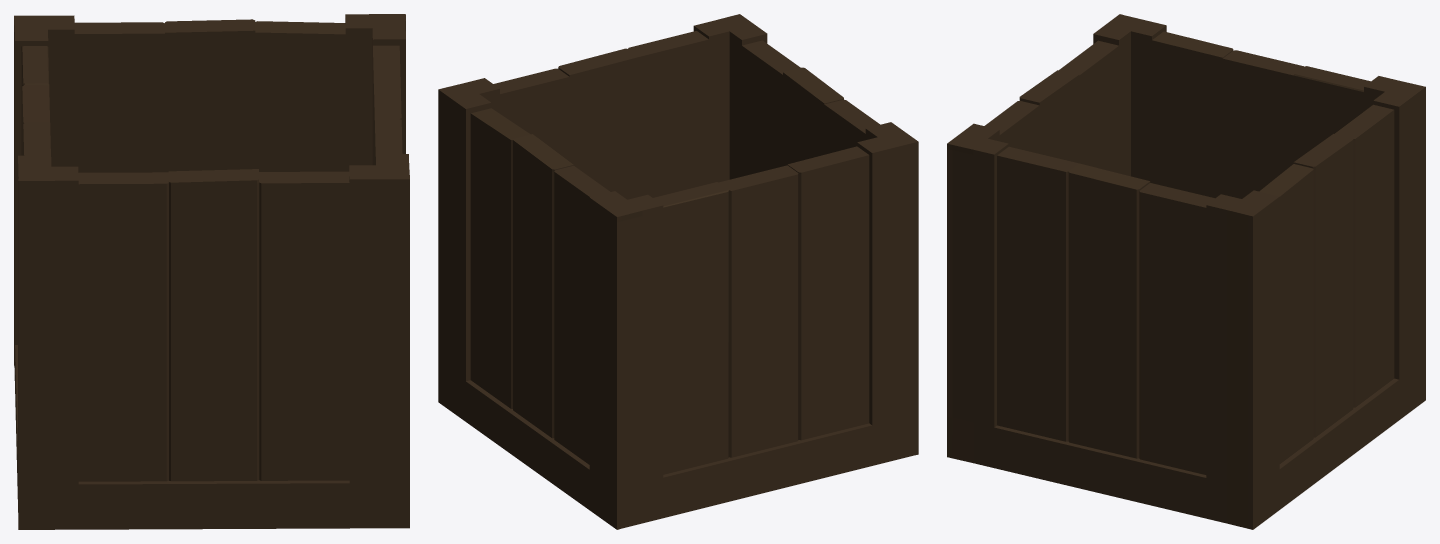
File: Crate.fbx
The picture shows the model from 3 angles, left to right: view 1: azimuth 30°, elevation 25°; view 2: azimuth 150°, elevation 25°; view 3: azimuth 270°, elevation 25°; orthographic projection. The views are drawn at different scales.
Parts seen in each view (by area): view 1: Crate.018; view 2: Crate.018; view 3: Crate.018.
Part boxes in pixels (bbox=[...]): Crate.018: bbox=[14, 14, 409, 529]; Crate.018: bbox=[438, 14, 918, 529]; Crate.018: bbox=[947, 14, 1425, 529].
Bounding box in the file's own units: 78.94 × 57 × 78.89.
